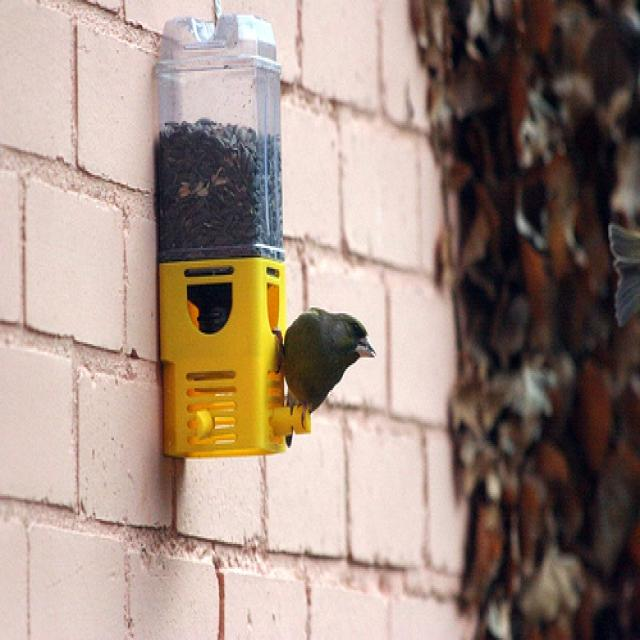bird: (276, 301, 380, 449)
